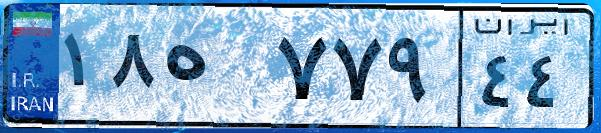1: (57, 26, 110, 100)
4: (475, 38, 525, 113), (525, 38, 570, 115)
7: (270, 28, 330, 110), (330, 28, 385, 110)
8: (110, 28, 158, 98)
9: (385, 28, 445, 110)
ه: (158, 20, 270, 120)
